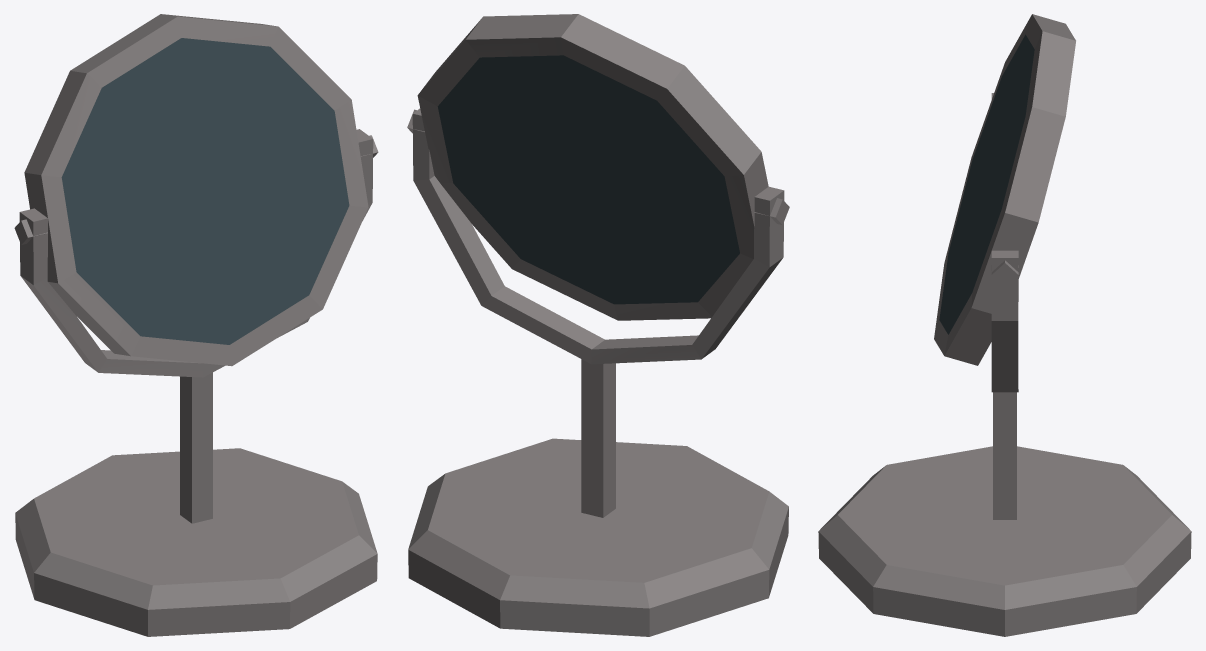
Rendered from furniture_mirror-table-small.fbx.
3 renders of one model, left to right at view 1: azimuth 30°, elevation 25°; view 2: azimuth 150°, elevation 25°; view 3: azimuth 270°, elevation 25°, orthographic. The views are drawn at different scales.
Parts seen in each view (by area): view 1: furniture_mirror_table_small; view 2: furniture_mirror_table_small; view 3: furniture_mirror_table_small.
Boxes of the visible parts, left/top/right/bottom form: furniture_mirror_table_small: left=14, top=14, right=378, bottom=636; furniture_mirror_table_small: left=407, top=14, right=789, bottom=636; furniture_mirror_table_small: left=818, top=14, right=1191, bottom=636.
Size of the model in its own units: 138 by 200 by 128.
